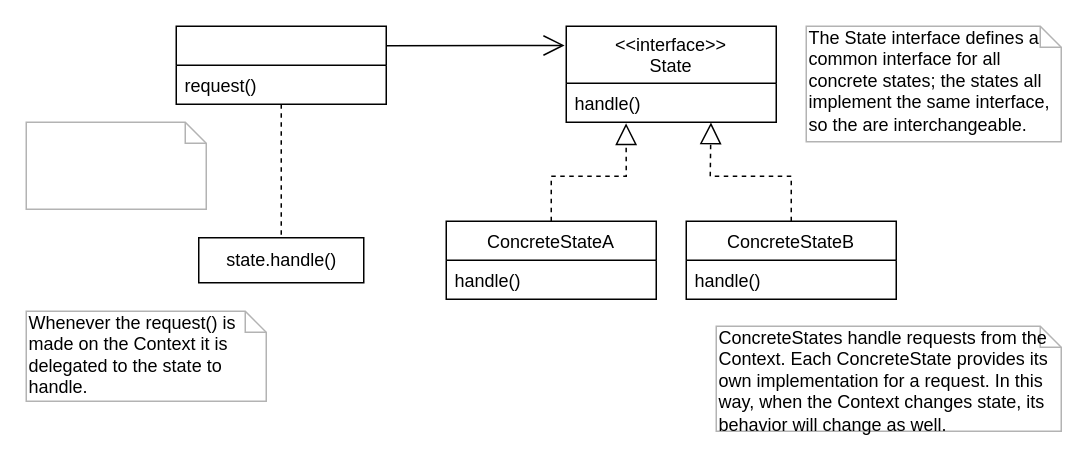
Image size: 1088x462. Some labels were removed from this diagram. The shapes that lost their labels are listed below. From the top down, each one's box as (x1, y1, x2, y2) in pixels, then its label:
(175, 25, 386, 104): Context
(25, 121, 206, 209): The Context is the class that can have a number of internal states.
